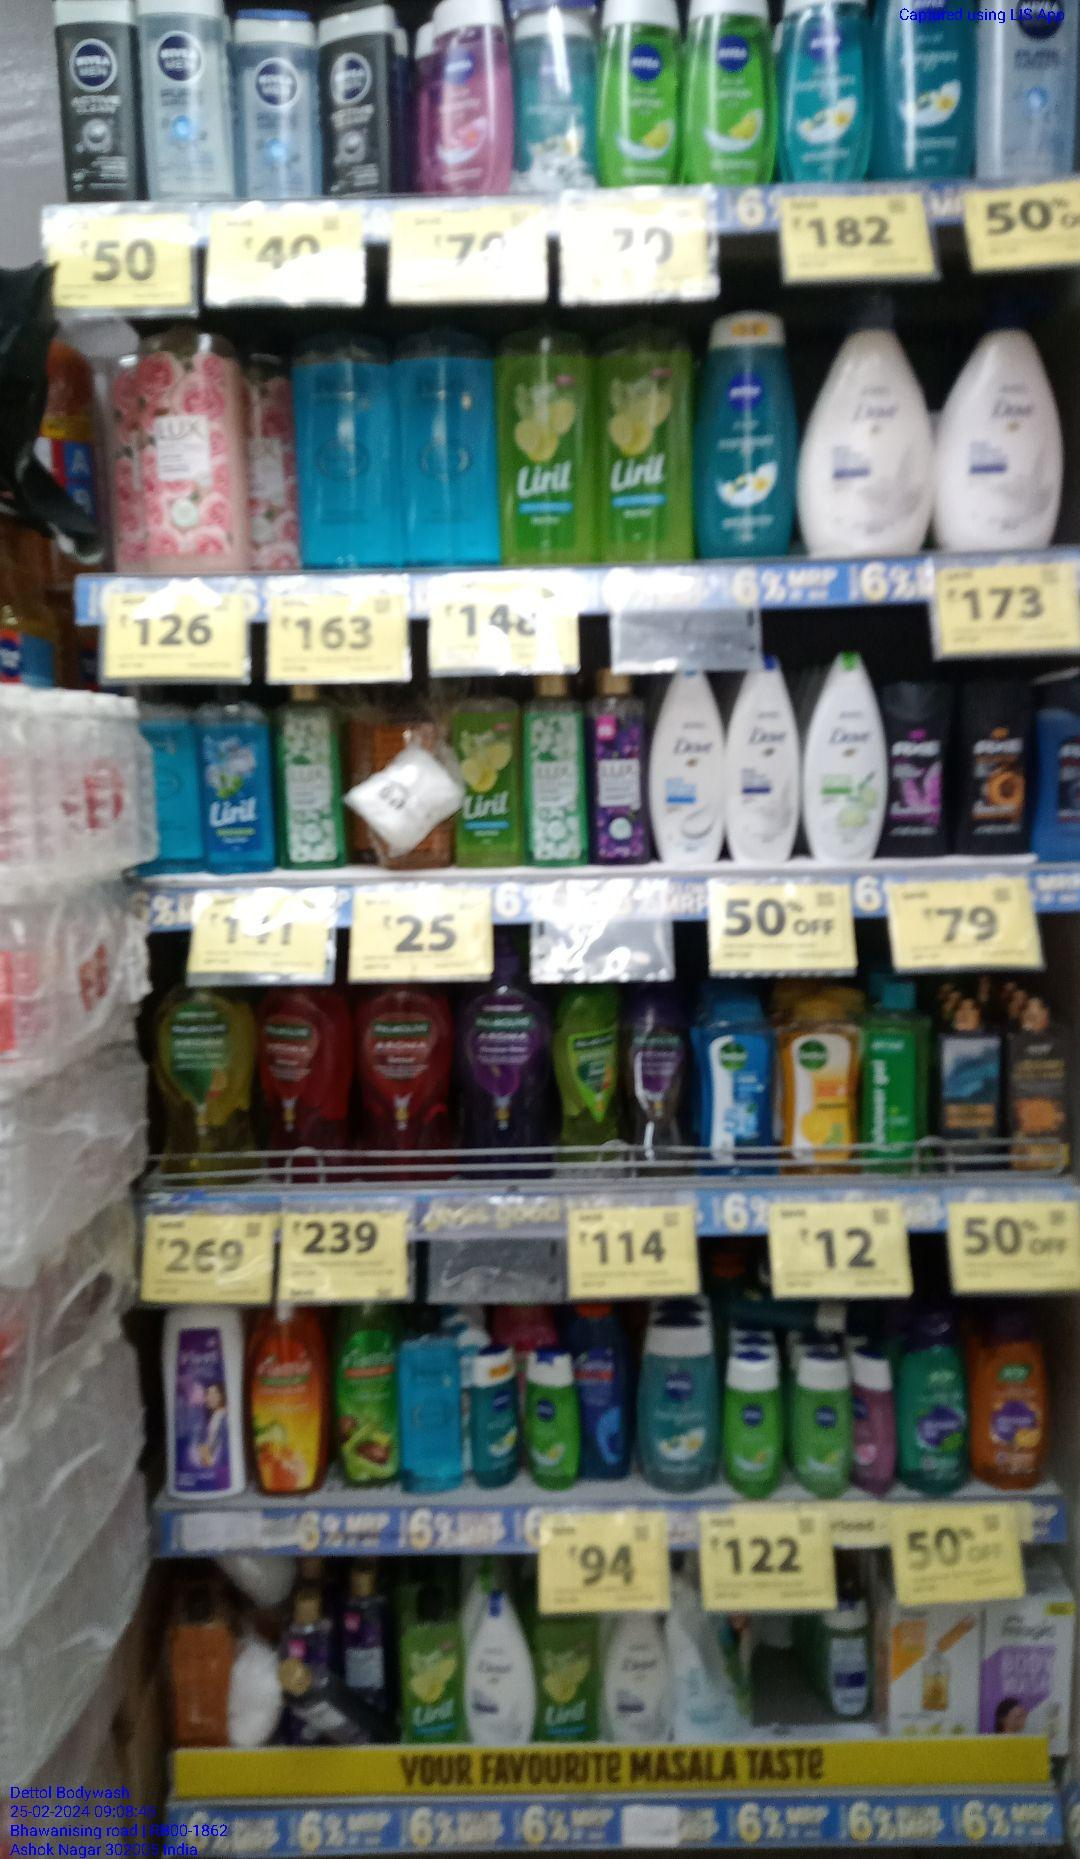Dettol_Bodywash_Cool: (697, 1000, 782, 1175)
Dettol_Bodywash_Refresh: (783, 998, 859, 1171)
Dove_Deep_Moisture_Body_Wash_250ML: (724, 662, 801, 863), (465, 1593, 532, 1742), (608, 1610, 671, 1742)
Dove_Gentle_Exfoliating_Body_Wash_250ML: (652, 666, 723, 863)
Dove_Refreshing_Body_Wash_250ML: (802, 654, 888, 859)
Joy_Shower_Gel_Mandarin_and_Lemongrass_250ML: (973, 1313, 1050, 1491)
Joy_Shower_Gel_Mint_and_Eucalyptus_250ML: (899, 1323, 966, 1493)
Liril_Cooling_Mint_Body_Wash_250ML: (201, 690, 274, 869)
Liril_Lime_and_Tea_Tree_Oil_Body_Wash_250ML: (458, 680, 523, 861)
Lux_Black_Orchid_Scent_and_Juniper_Oil_Body_Wash_245ML: (594, 669, 652, 863)
Lux_Body_Wash_Skin_Detox_Freesia_Scent_and_Alove_Vera_245ML: (280, 689, 346, 869), (527, 679, 586, 868)
Nivea_Shower_Gel_Frangipani_and_Oil_250ML: (703, 309, 796, 555)
Palmolive_Aroma_Relax_250ML: (625, 995, 694, 1172)
